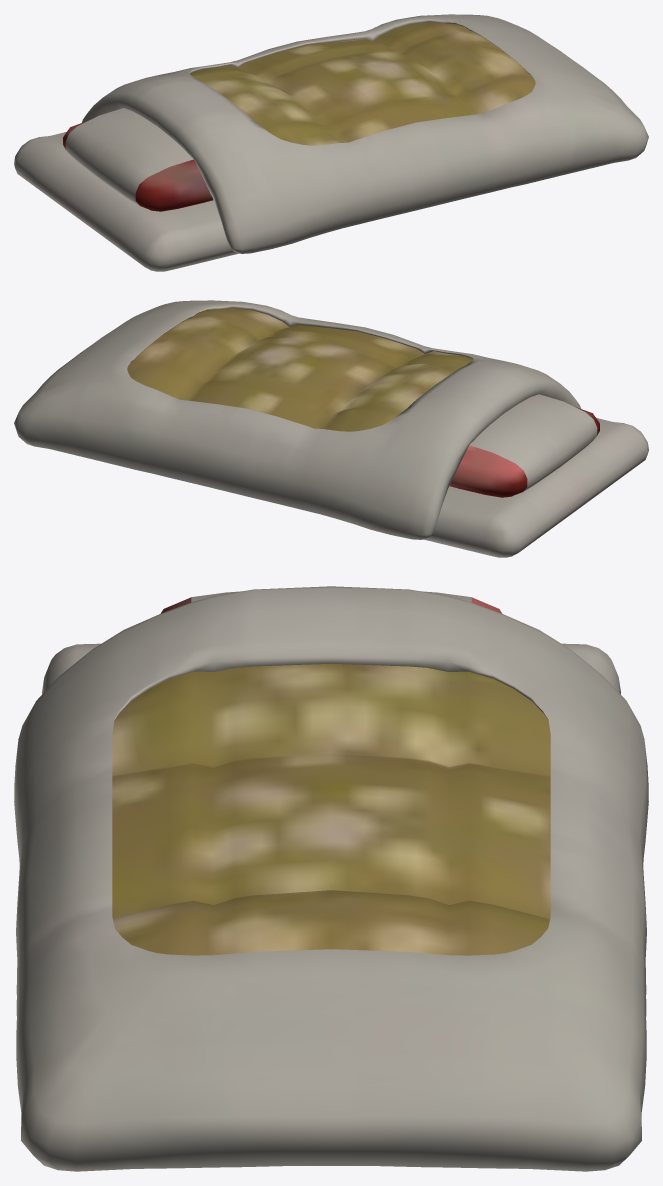
The picture shows the model from 3 angles, top to bottom: view 1: azimuth 30°, elevation 25°; view 2: azimuth 150°, elevation 25°; view 3: azimuth 270°, elevation 25°; orthographic projection. The views are drawn at different scales.
Size of the model in its own units: 18.37 by 3.52 by 9.94.
2 materials, 2 textured.
